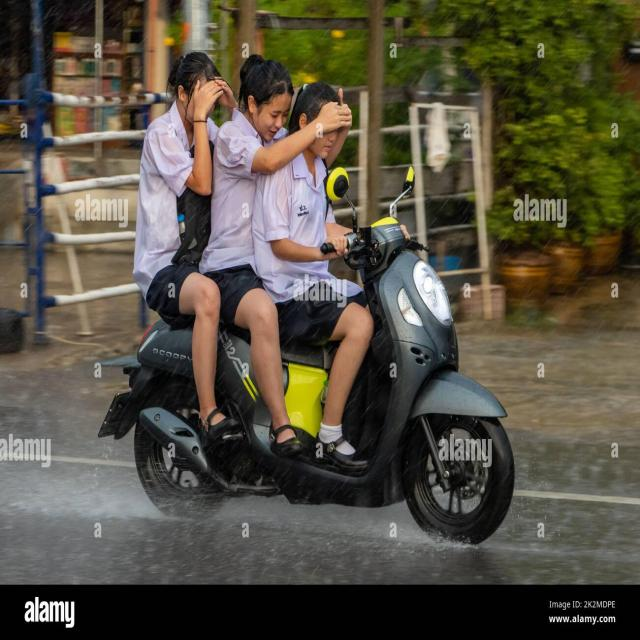Not Wearing Helmet: (288, 57, 385, 161)
Triple Riding: (166, 9, 484, 449)
